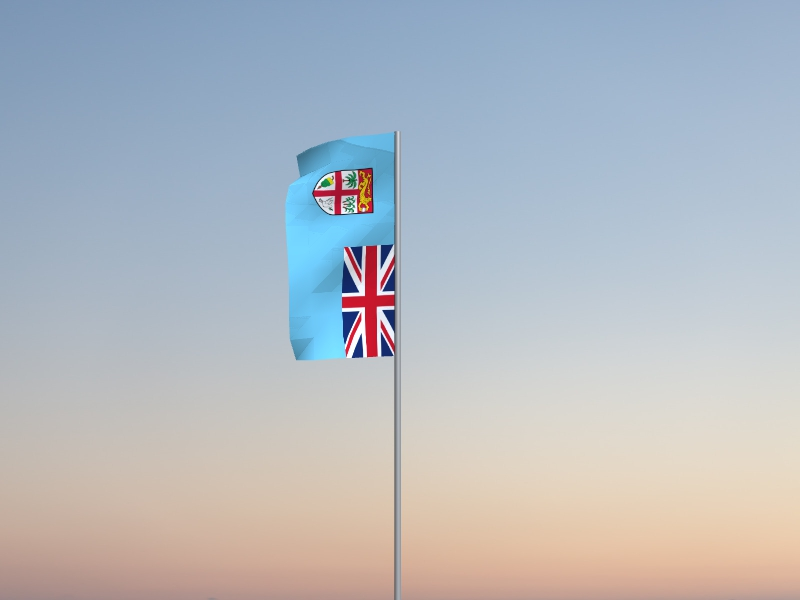fj: (285, 133, 395, 362)
